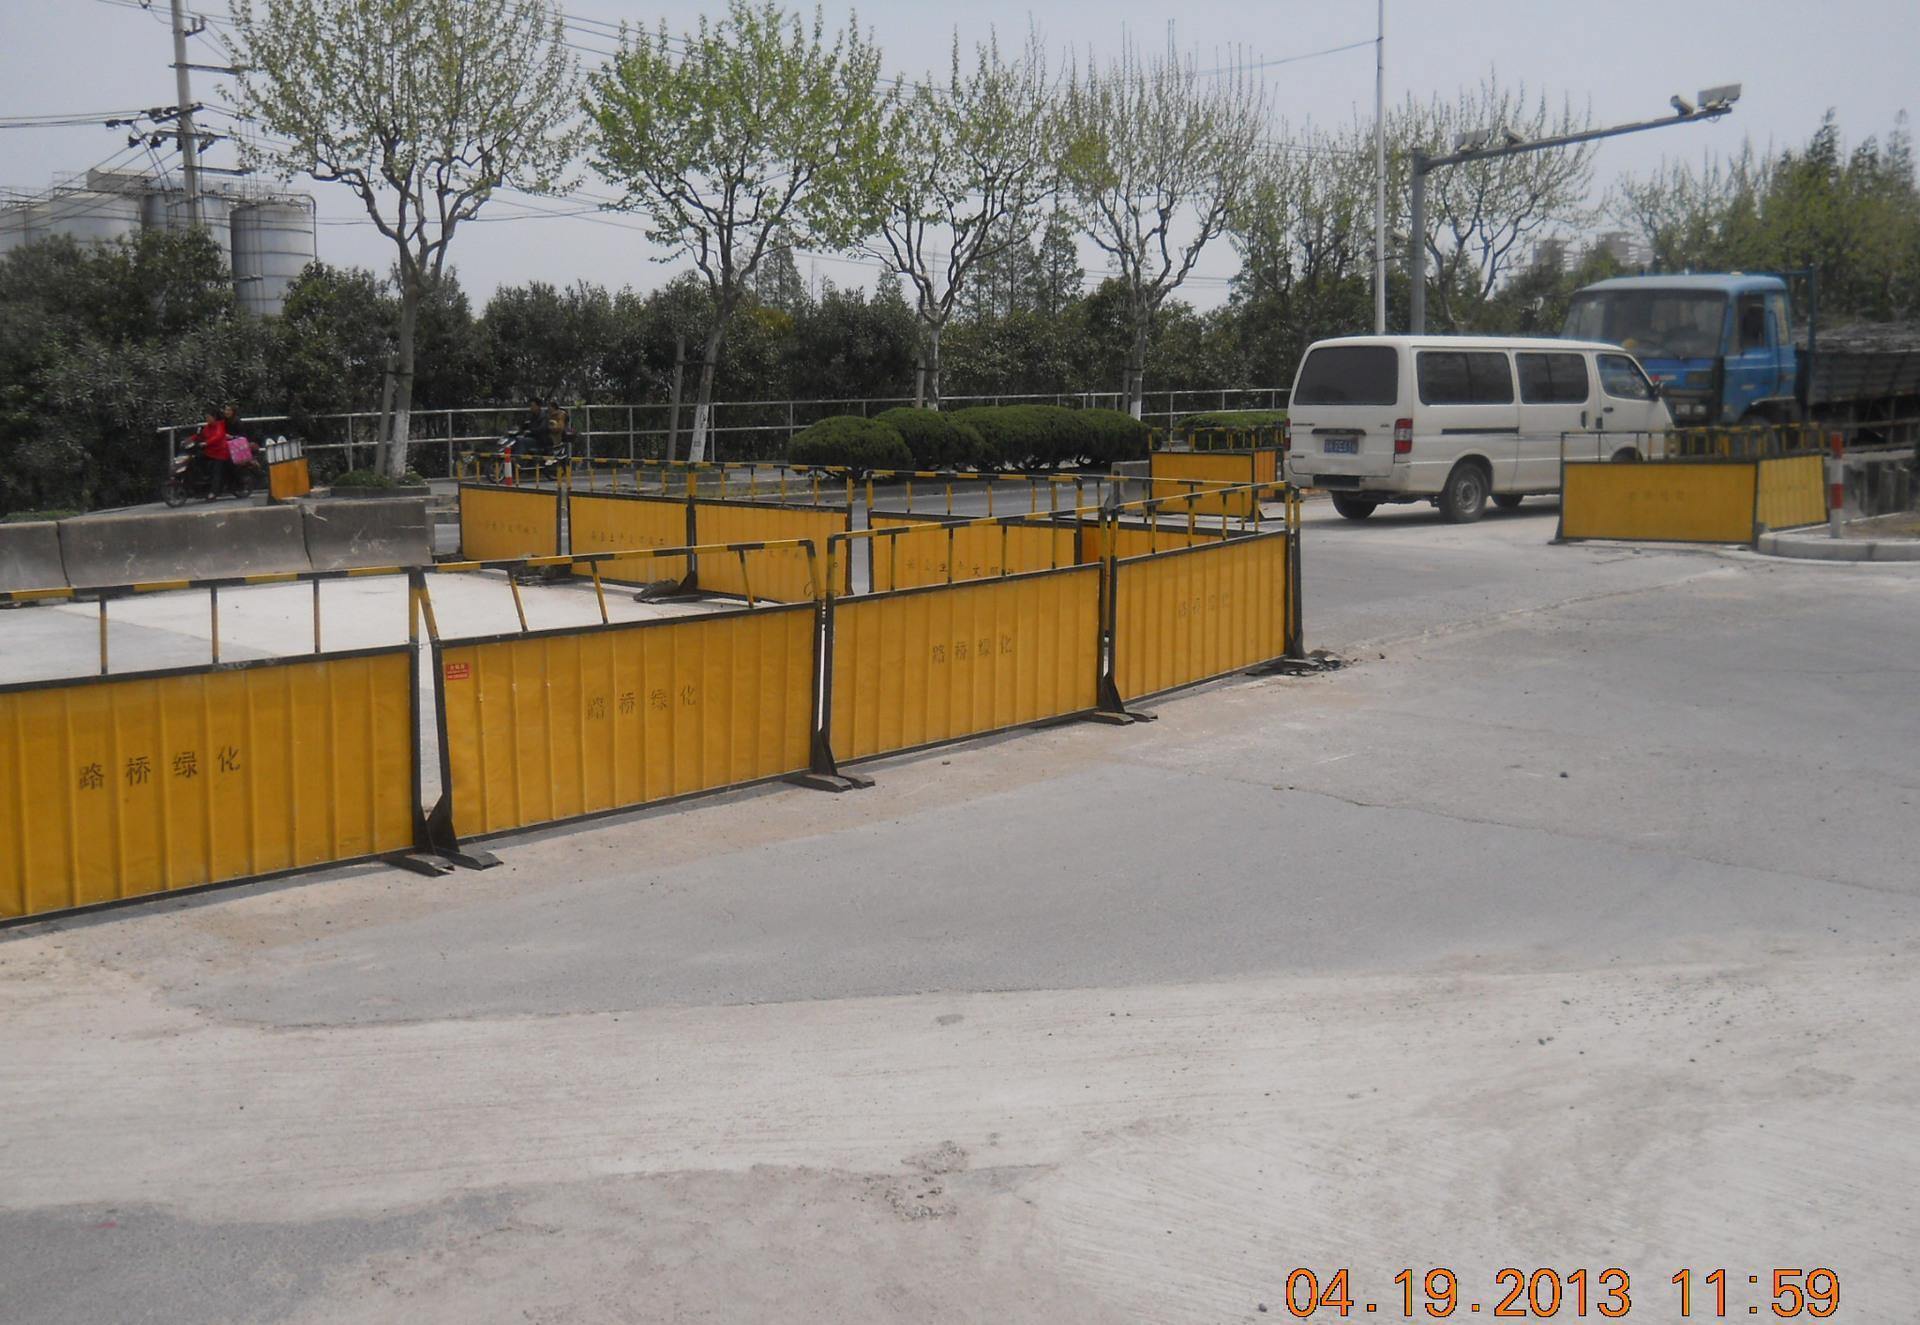sign: (1, 515, 1037, 930), (1008, 463, 1382, 752)
